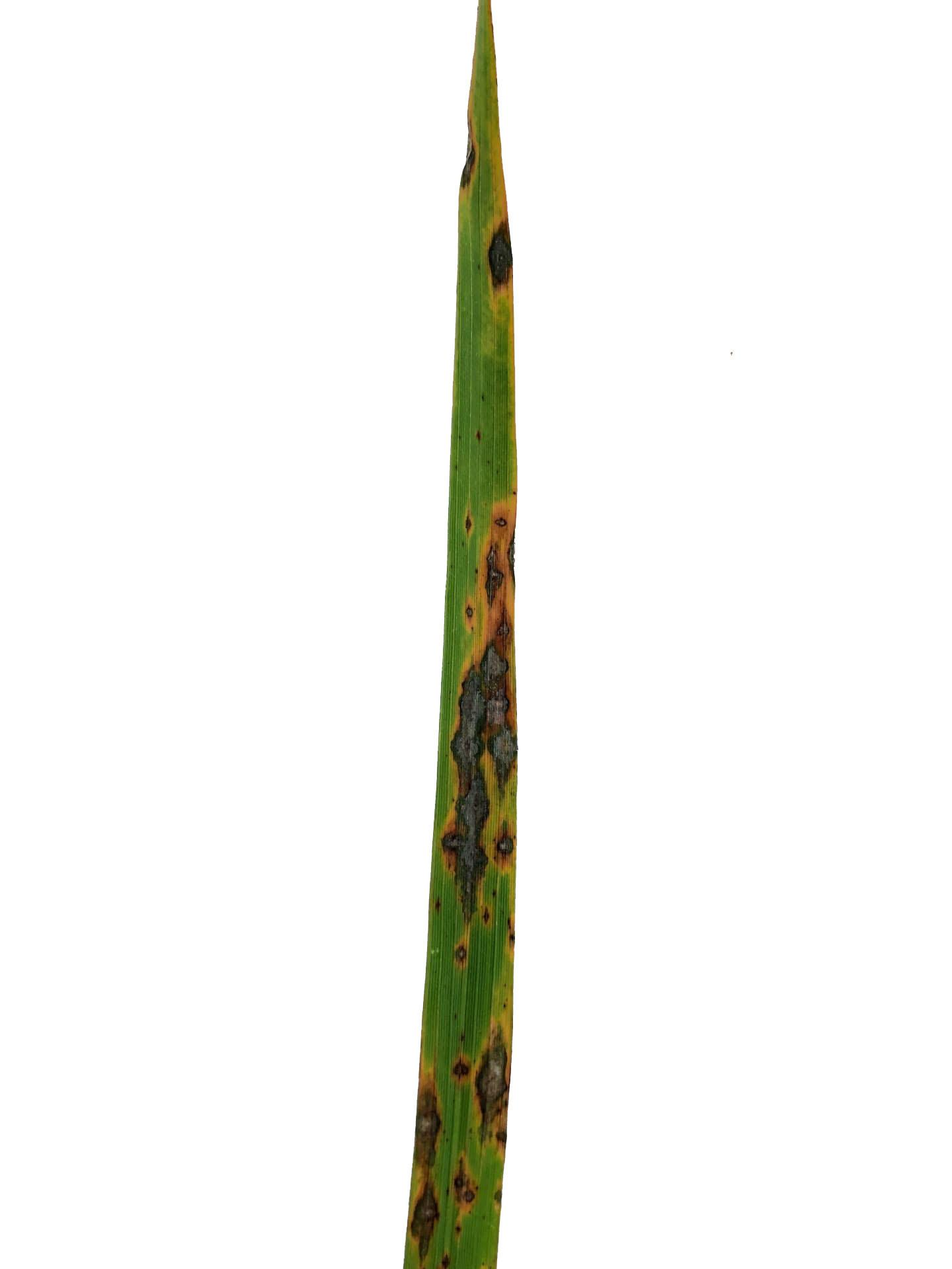Rice blast: (438, 639, 514, 928), (471, 1030, 506, 1150), (479, 498, 512, 618), (479, 212, 516, 317), (413, 1071, 444, 1176), (407, 1183, 442, 1267), (452, 1152, 476, 1228), (452, 1057, 466, 1090)
